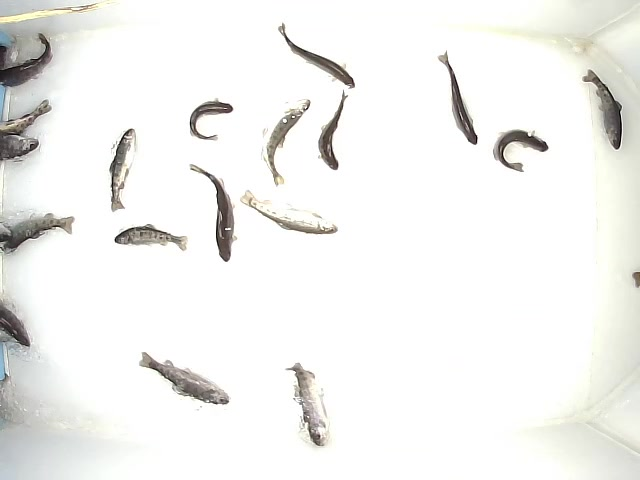fish: (277, 21, 356, 90), (138, 351, 231, 407), (188, 163, 237, 265), (260, 98, 311, 189), (239, 190, 339, 236), (436, 49, 478, 146), (284, 360, 330, 448), (580, 68, 623, 152), (1, 212, 77, 254), (491, 128, 549, 174), (107, 126, 137, 214), (317, 89, 348, 171), (112, 221, 188, 252), (189, 97, 234, 142)
